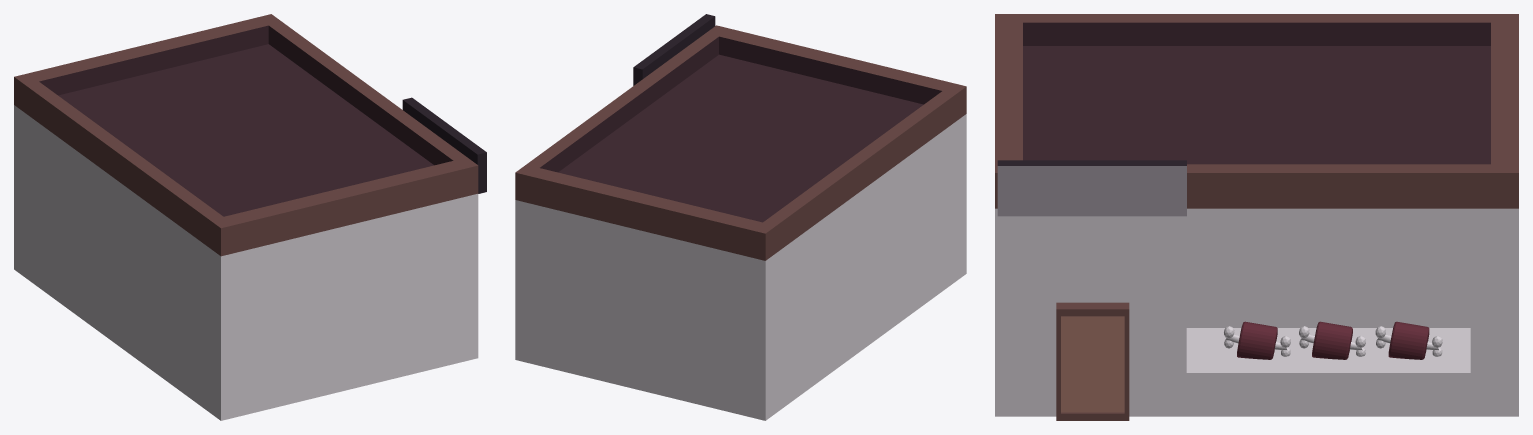
The model's file is BUTCHER_03.fbx.
3 renders of one model, left to right at view 1: azimuth 30°, elevation 25°; view 2: azimuth 150°, elevation 25°; view 3: azimuth 270°, elevation 25°, orthographic. The views are drawn at different scales.
Parts seen in each view (by area): view 1: shop, tabela; view 2: shop, tabela; view 3: shop, tabela, door, ettt.002, ettt, ettt.001.
Part boxes in pixels (bbox=[...]): shop: bbox=[14, 14, 478, 420]; tabela: bbox=[402, 97, 486, 193]; shop: bbox=[515, 25, 966, 420]; tabela: bbox=[633, 14, 715, 85]; shop: bbox=[995, 14, 1518, 416]; tabela: bbox=[997, 160, 1186, 216]; door: bbox=[1056, 302, 1129, 420]; ettt.002: bbox=[1375, 321, 1442, 359]; ettt: bbox=[1224, 321, 1290, 359]; ettt.001: bbox=[1299, 321, 1365, 359].
Bounding box in the file's own units: 634 × 459 × 849.
Materials: 4 (4 with a texture image).
